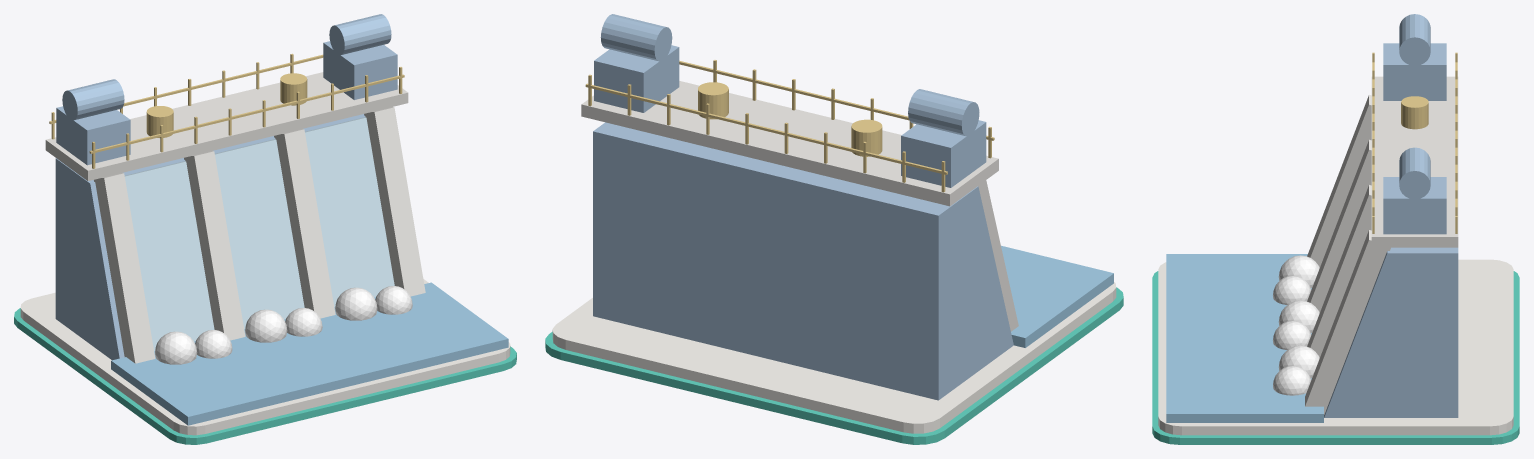
The model's file is hydro.glb.
The picture shows the model from 3 angles, left to right: view 1: azimuth 30°, elevation 25°; view 2: azimuth 150°, elevation 25°; view 3: azimuth 270°, elevation 25°; orthographic projection. The views are drawn at different scales.
Visible parts, largest first — view 1: concrete, water, water_deep, dam, base, steam, rim_1fa98a, rail; view 2: dam, base, concrete, rim_1fa98a, rail, water_deep; view 3: dam, concrete, water_deep, base, rim_1fa98a, steam, rail.
Part boxes in pixels (x1,y1,x2,y2): concrete: (45,72,425,363); water: (124,117,394,350); water_deep: (111,282,508,425); dam: (55,14,397,360); base: (20,279,510,435); steam: (155,286,412,364); rim_1fa98a: (14,308,516,444); rail: (49,53,404,168); dam: (593,14,1013,400); base: (552,282,1116,433); concrete: (581,81,1018,331); rim_1fa98a: (545,287,1123,444); rail: (585,60,994,192); water_deep: (1001,245,1113,347); dam: (1324,14,1458,417); concrete: (1305,76,1458,414); water_deep: (1166,254,1323,422); base: (1158,259,1513,435); rim_1fa98a: (1152,271,1519,444); steam: (1273,255,1319,395); rail: (1372,52,1457,233).
Bounding box in the file's own units: 10.3 × 7.45 × 9.3.
